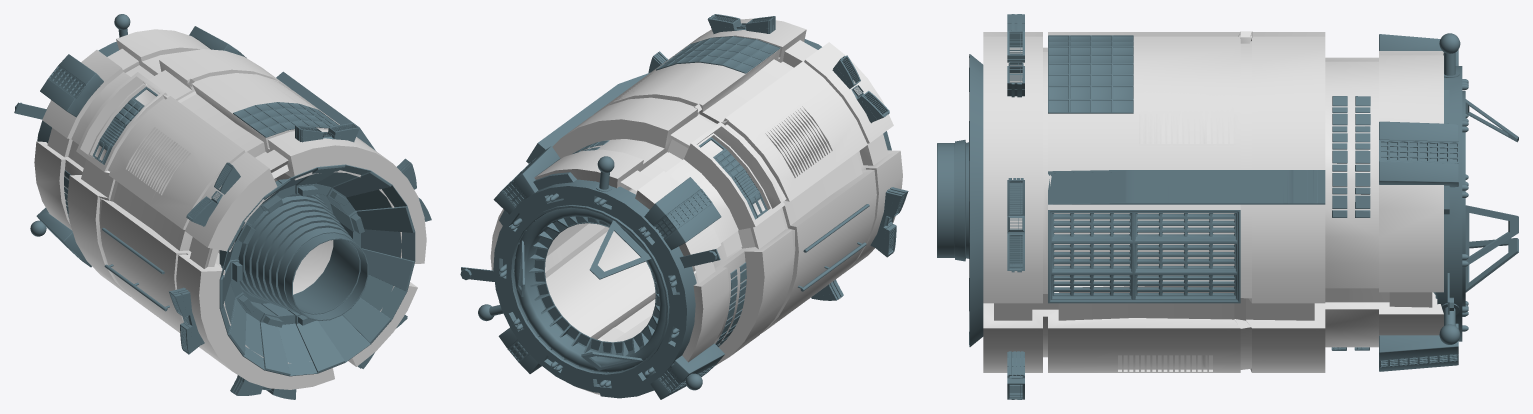
File: brealld.fbx
3 views of the same model, side by side, from view 1: azimuth 30°, elevation 25°; view 2: azimuth 150°, elevation 25°; view 3: azimuth 270°, elevation 25° (orthographic). The views are drawn at different scales.
Visible parts, largest first — view 1: Cylinder, engine1, Plane.016, Cylinder.004, Cylinder.010, AIRLOCK.002, Cylinder.016, Cylinder.003, Cylinder.012, Cube.020, Cylinder.001, Cylinder.011 (+1 smaller); view 2: Cylinder, AIRLOCK.002, Plane.016, Cylinder.004, Cylinder.010, Cylinder.012, Cylinder.003, Cylinder.001, Sphere.002, Cylinder.016, Cylinder.011, Cube.020 (+2 smaller); view 3: Cylinder, Cylinder.009, Cylinder.003, AIRLOCK.002, engine1, Cylinder.004, Cylinder.001, Plane.016, Sphere.002, Cylinder.014, Cylinder.002, Cylinder.010 (+1 smaller).
Part boxes in pixels (x1,y1,x2,y2): Cylinder: [34, 29, 426, 389]; engine1: [219, 164, 415, 376]; Plane.016: [169, 123, 431, 399]; Cylinder.004: [233, 102, 339, 137]; Cylinder.010: [40, 54, 103, 117]; AIRLOCK.002: [14, 14, 130, 236]; Cylinder.016: [92, 86, 157, 164]; Cylinder.003: [276, 71, 375, 150]; Cylinder.012: [36, 207, 91, 267]; Cube.020: [102, 228, 169, 311]; Cylinder.001: [189, 26, 244, 56]; Cylinder.011: [48, 65, 85, 98]; Cylinder: [490, 18, 902, 394]; AIRLOCK.002: [460, 156, 720, 398]; Plane.016: [648, 14, 908, 300]; Cylinder.004: [656, 36, 780, 73]; Cylinder.010: [644, 177, 721, 250]; Cylinder.012: [645, 343, 724, 399]; Cylinder.003: [526, 72, 650, 163]; Cylinder.001: [493, 146, 560, 214]; Sphere.002: [572, 140, 746, 346]; Cylinder.016: [699, 137, 767, 219]; Cylinder.011: [653, 189, 712, 239]; Cube.020: [798, 204, 869, 291]; Cylinder: [983, 31, 1443, 372]; Cylinder.009: [1048, 210, 1240, 303]; Cylinder.003: [1048, 170, 1325, 204]; AIRLOCK.002: [1433, 33, 1518, 344]; engine1: [937, 54, 983, 346]; Cylinder.004: [1048, 35, 1133, 113]; Cylinder.001: [1379, 121, 1458, 187]; Plane.016: [1007, 14, 1024, 399]; Sphere.002: [1331, 96, 1370, 350]; Cylinder.014: [1379, 323, 1458, 371]; Cylinder.002: [1379, 140, 1458, 163]; Cylinder.010: [1379, 34, 1458, 65].
Bounding box in the file's own units: 368 × 368 × 556.
